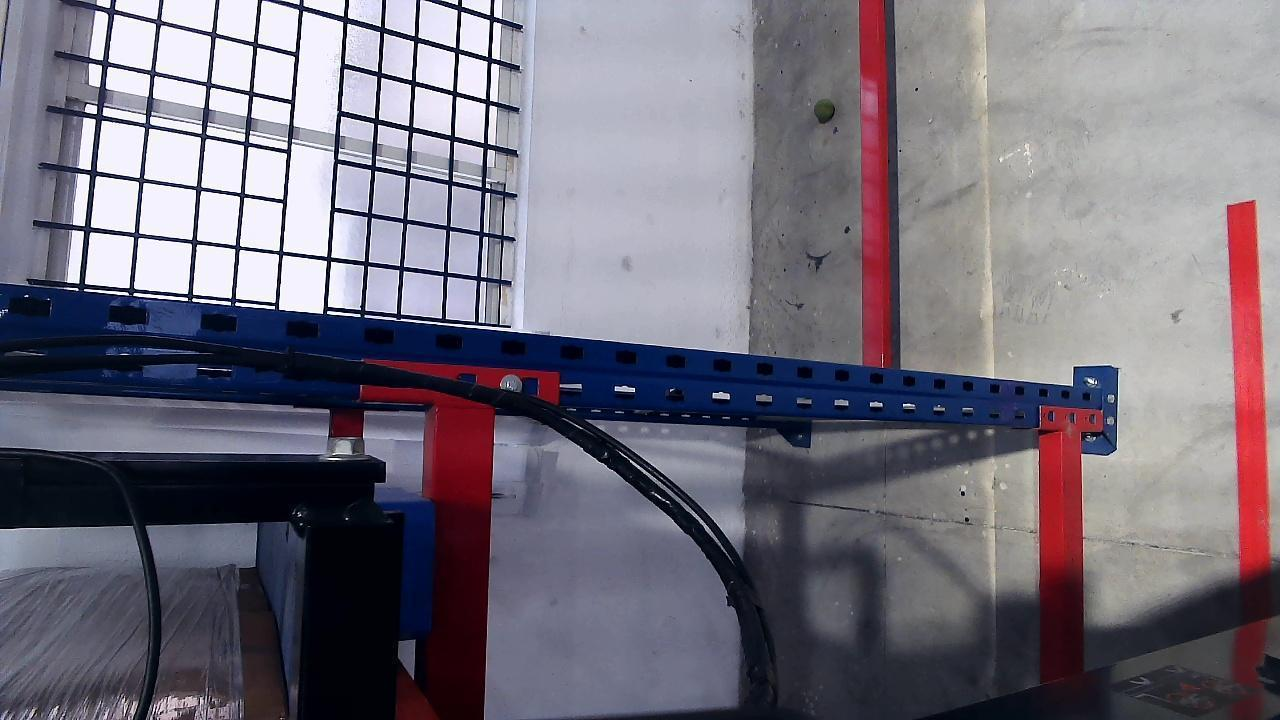red_line: (1225, 198, 1267, 709)
